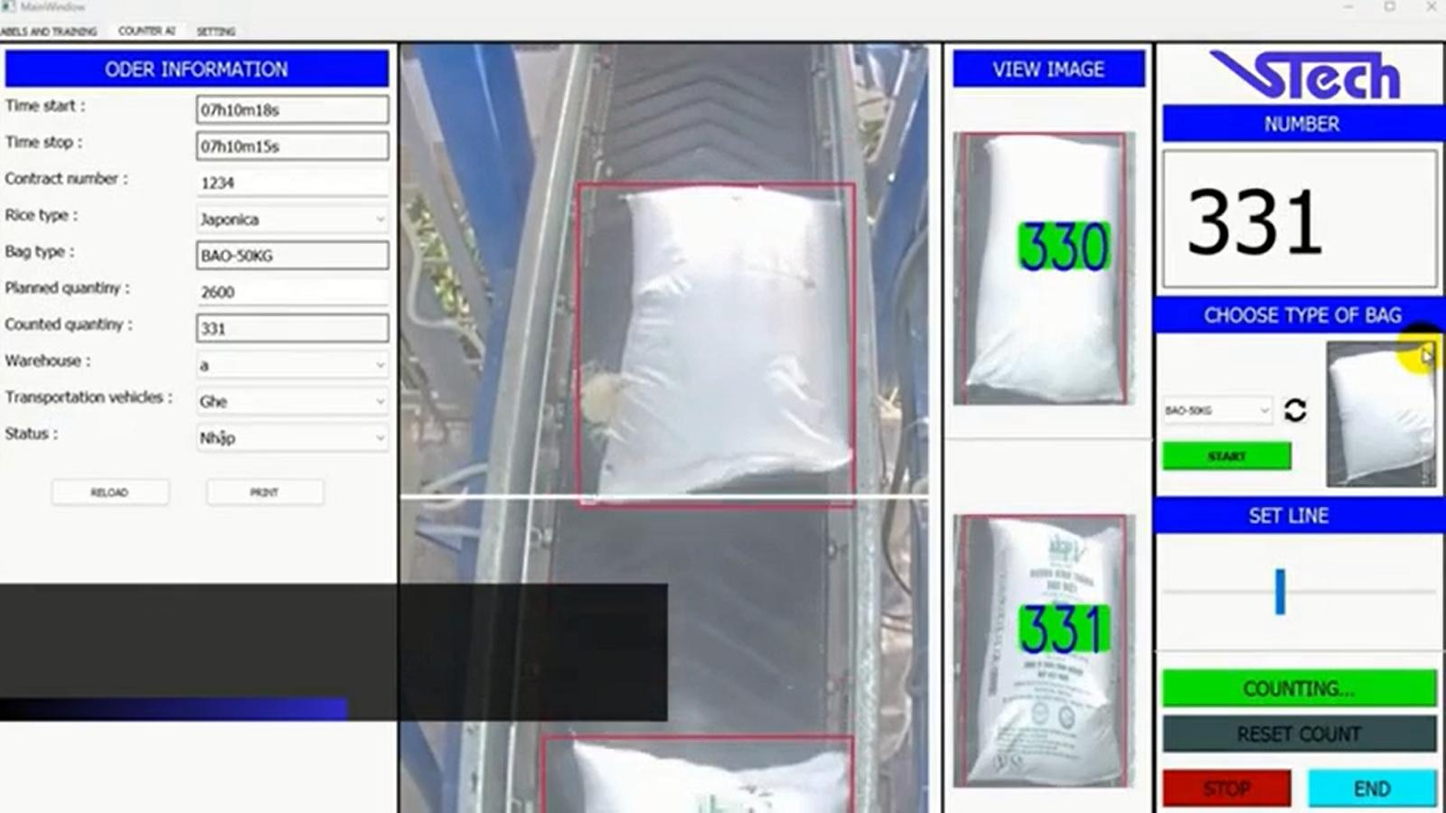rice-bag: (587, 184, 851, 496), (961, 135, 1123, 403), (969, 518, 1123, 785)
